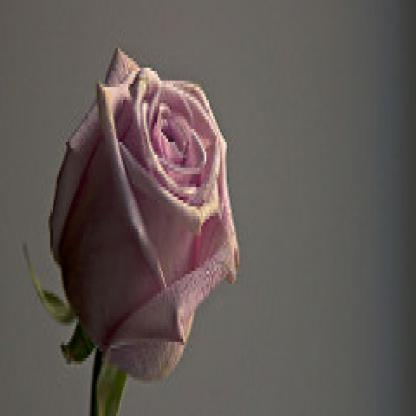ROSE-MAWAR: (27, 4, 240, 404)
